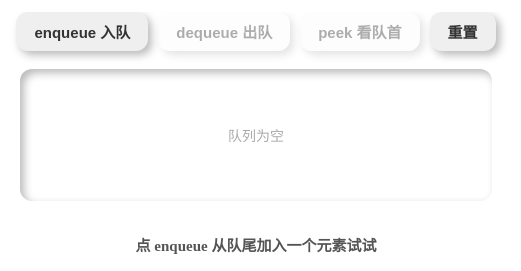
Test: QueueViz › TC-VIZ-QUEUEVIZ-05 dequeue 移除队首并解说
Click the button "enqueue 入队": (82, 32) [16, 12, 148, 51]
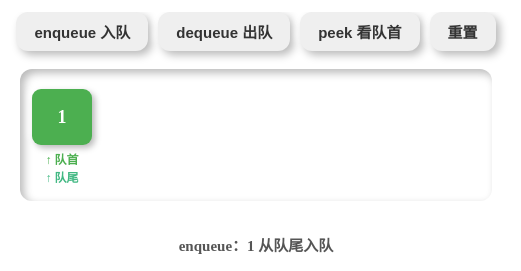
Click the button "enqueue 入队": (82, 32) [16, 12, 148, 51]
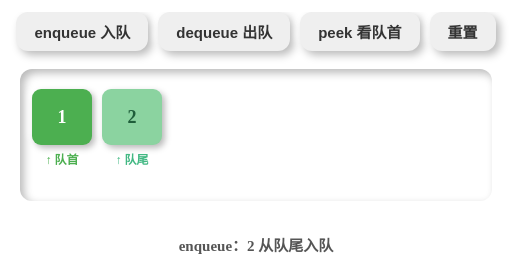
Click the button "dequeue 出队": (224, 32) [158, 12, 290, 51]
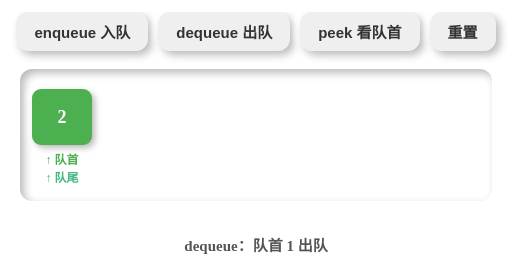
Expected: the text "2" is shown, [32, 89, 92, 145]
Expected: the message with class "status" shows "出队", [184, 238, 328, 254]
